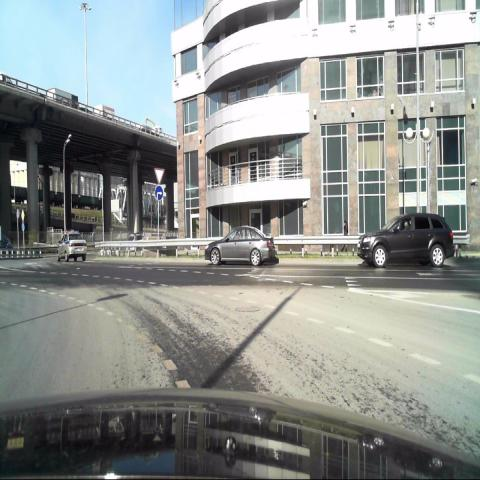2_4: (153, 165, 166, 185)
4_1_2: (154, 184, 164, 200)
